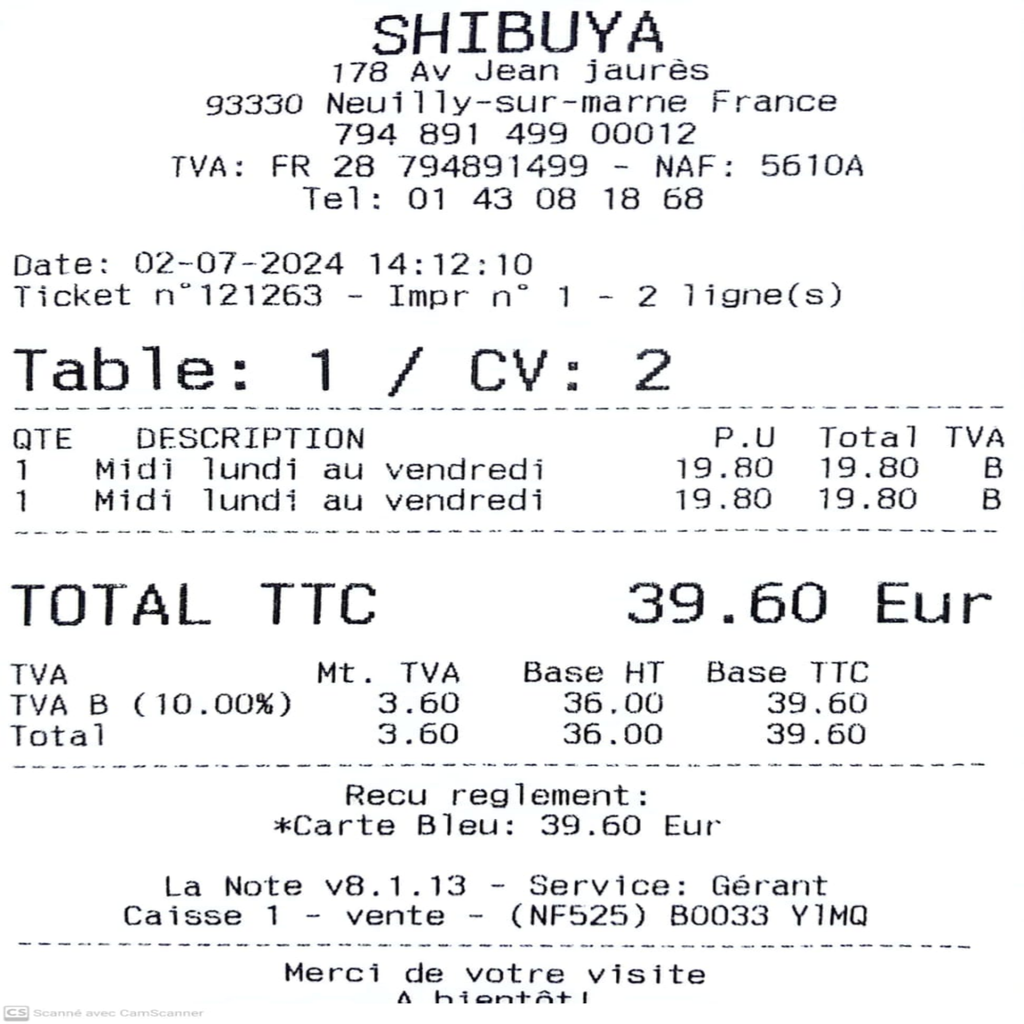recipt: (8, 4, 1020, 1018)
